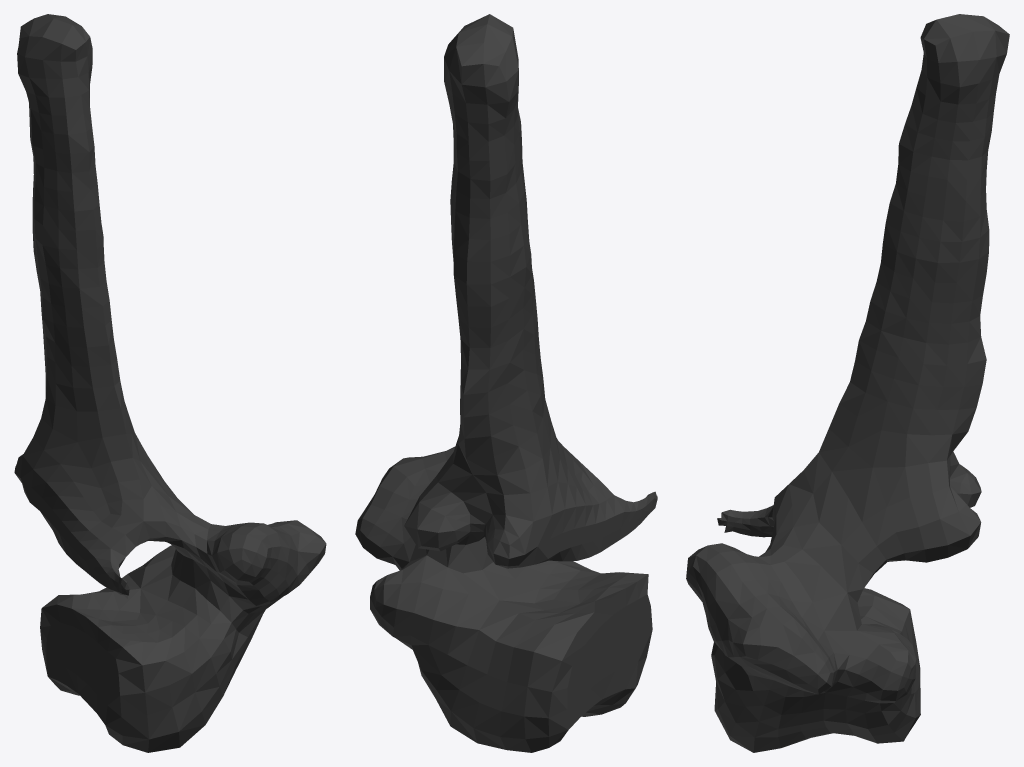
The picture shows the model from 3 angles, left to right: view 1: azimuth 30°, elevation 25°; view 2: azimuth 150°, elevation 25°; view 3: azimuth 270°, elevation 25°; orthographic projection. The views are drawn at different scales.
Visible parts, largest first — view 1: T2; view 2: T2; view 3: T2.
Part boxes in pixels (bbox=[...]): T2: bbox=[14, 14, 326, 752]; T2: bbox=[355, 14, 657, 752]; T2: bbox=[686, 14, 1009, 752].
Size of the model in its own units: 0.00705 by 0.0207 by 0.00841.
Materials: 1 (1 with a texture image).
